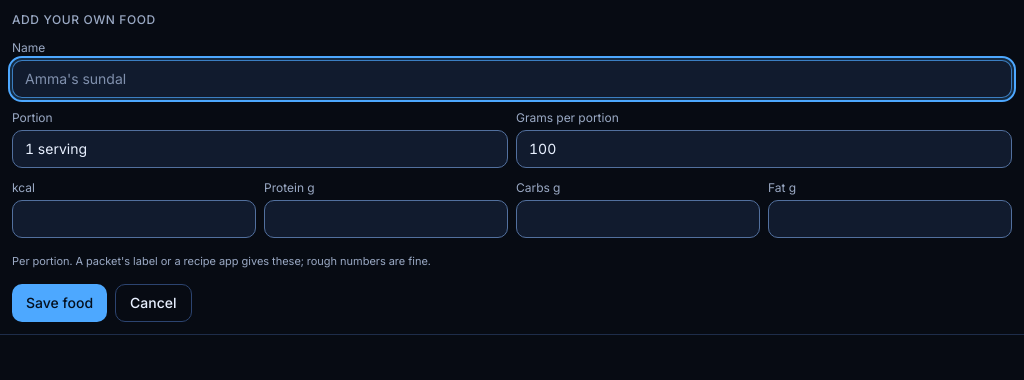
Test: AddFoodForm › asks for a name and the calories before saving
Step 1. Click the button "Save food" → {"x": 60, "y": 303}, box [12,284,107,322]
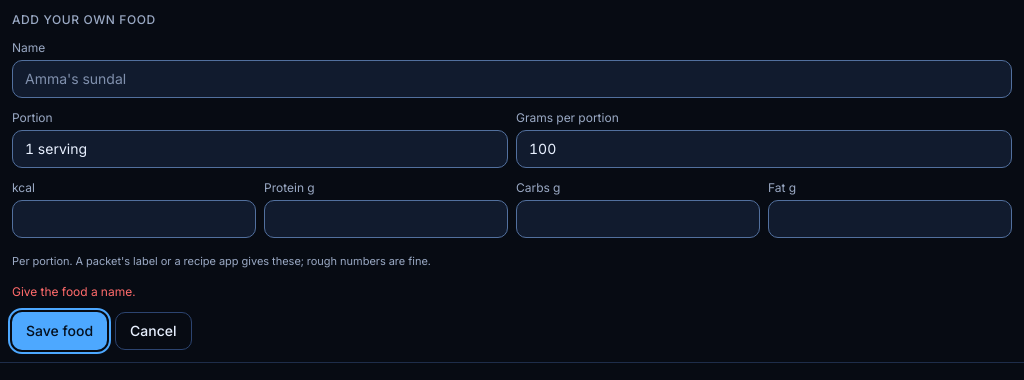
Now the message reads "Give the food a name.", box [12,284,135,299]
Step 2. Type "Kozhukattai" into the field labelled "Name" → {"x": 512, "y": 79}, box [12,60,1012,98]
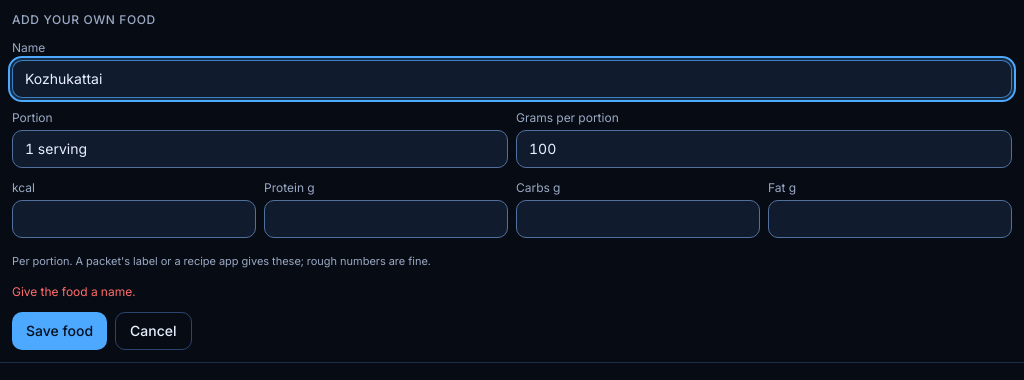
Step 3. Click the button "Save food" → {"x": 60, "y": 331}, box [12,312,107,350]
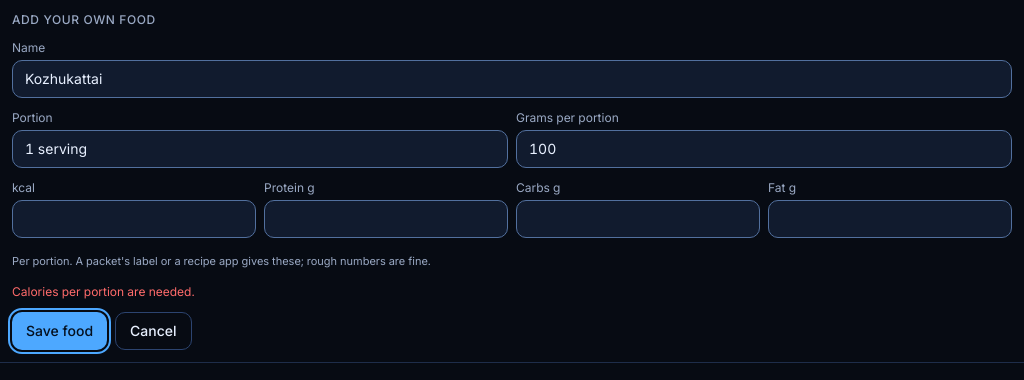
Now the message reads "Calories per portion are needed.", box [12,284,195,299]
